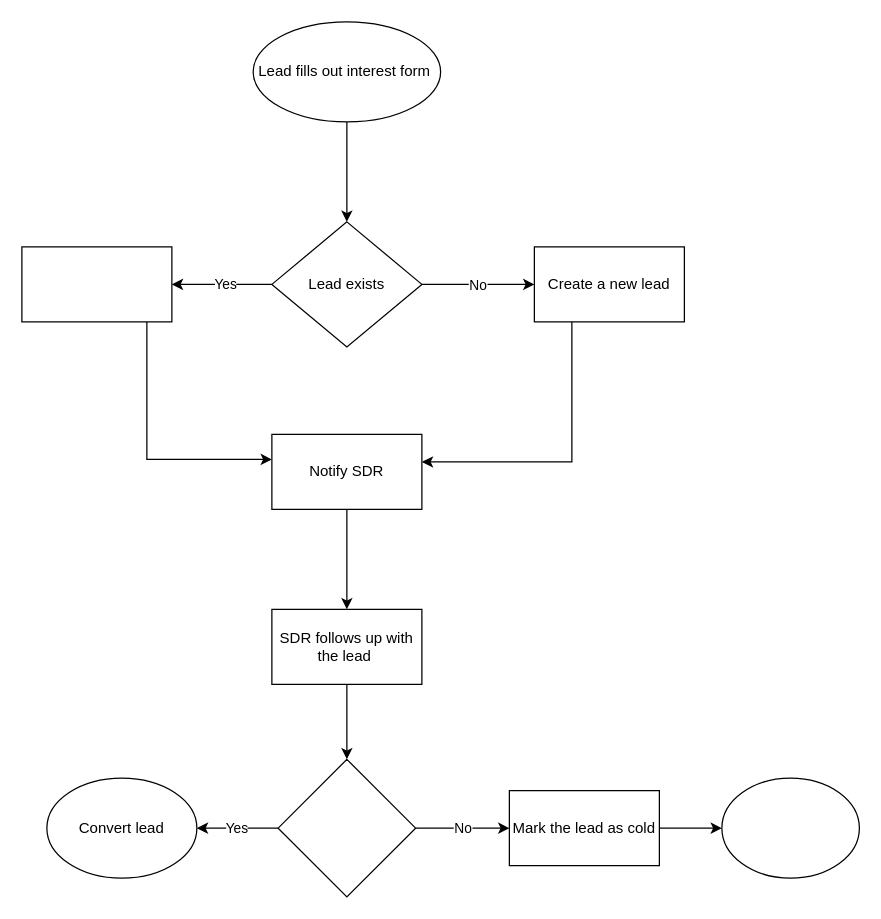
This 881x919 diagram has some shape labels left out. Here are the shapes that lost their labels. From the top down, the centre of each, then its label:
the point at 96,284: Update the existing lead
the point at 346,827: Lead qualified?
the point at 790,827: Add, read to email list
